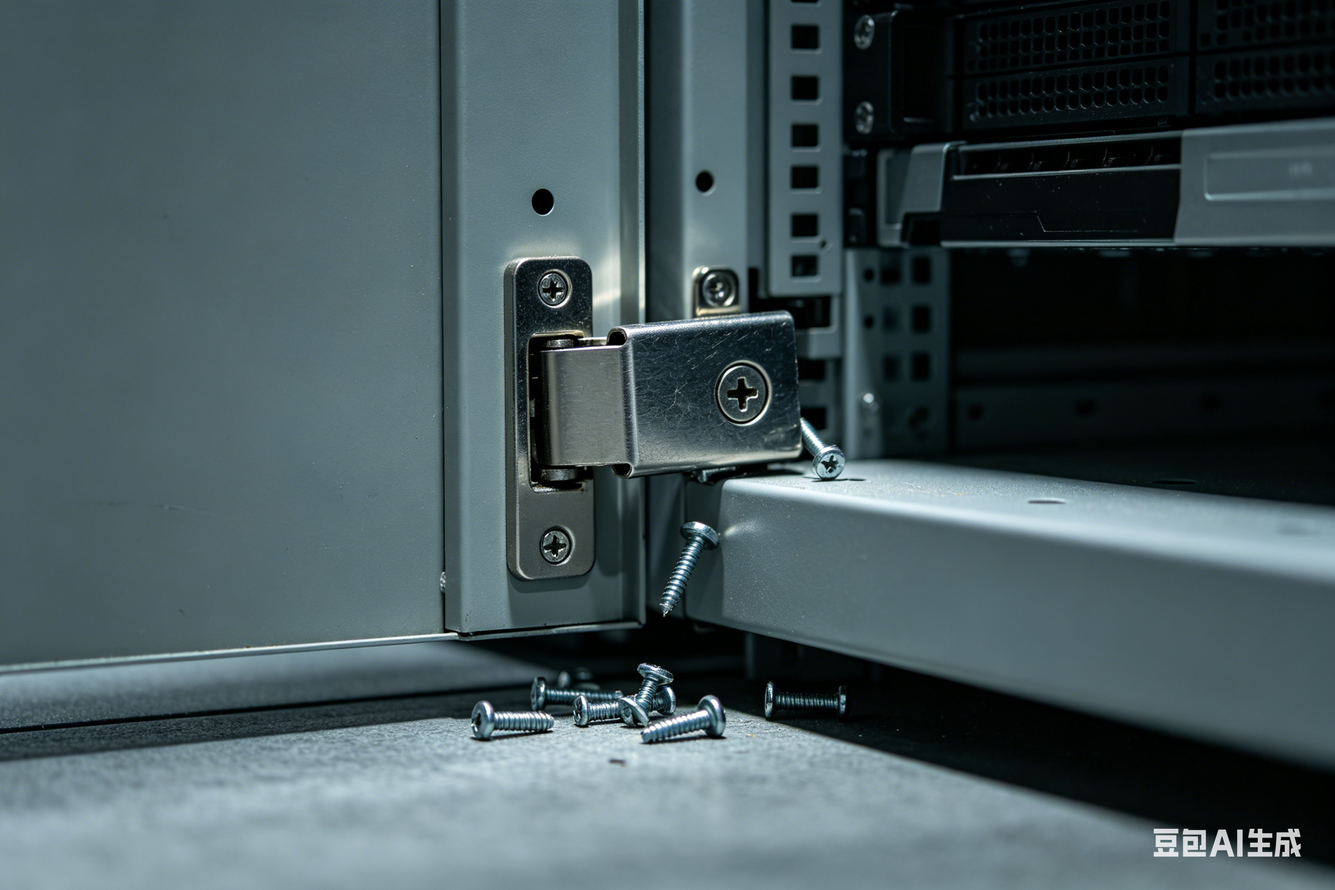BadLock: (613, 288, 929, 488)
